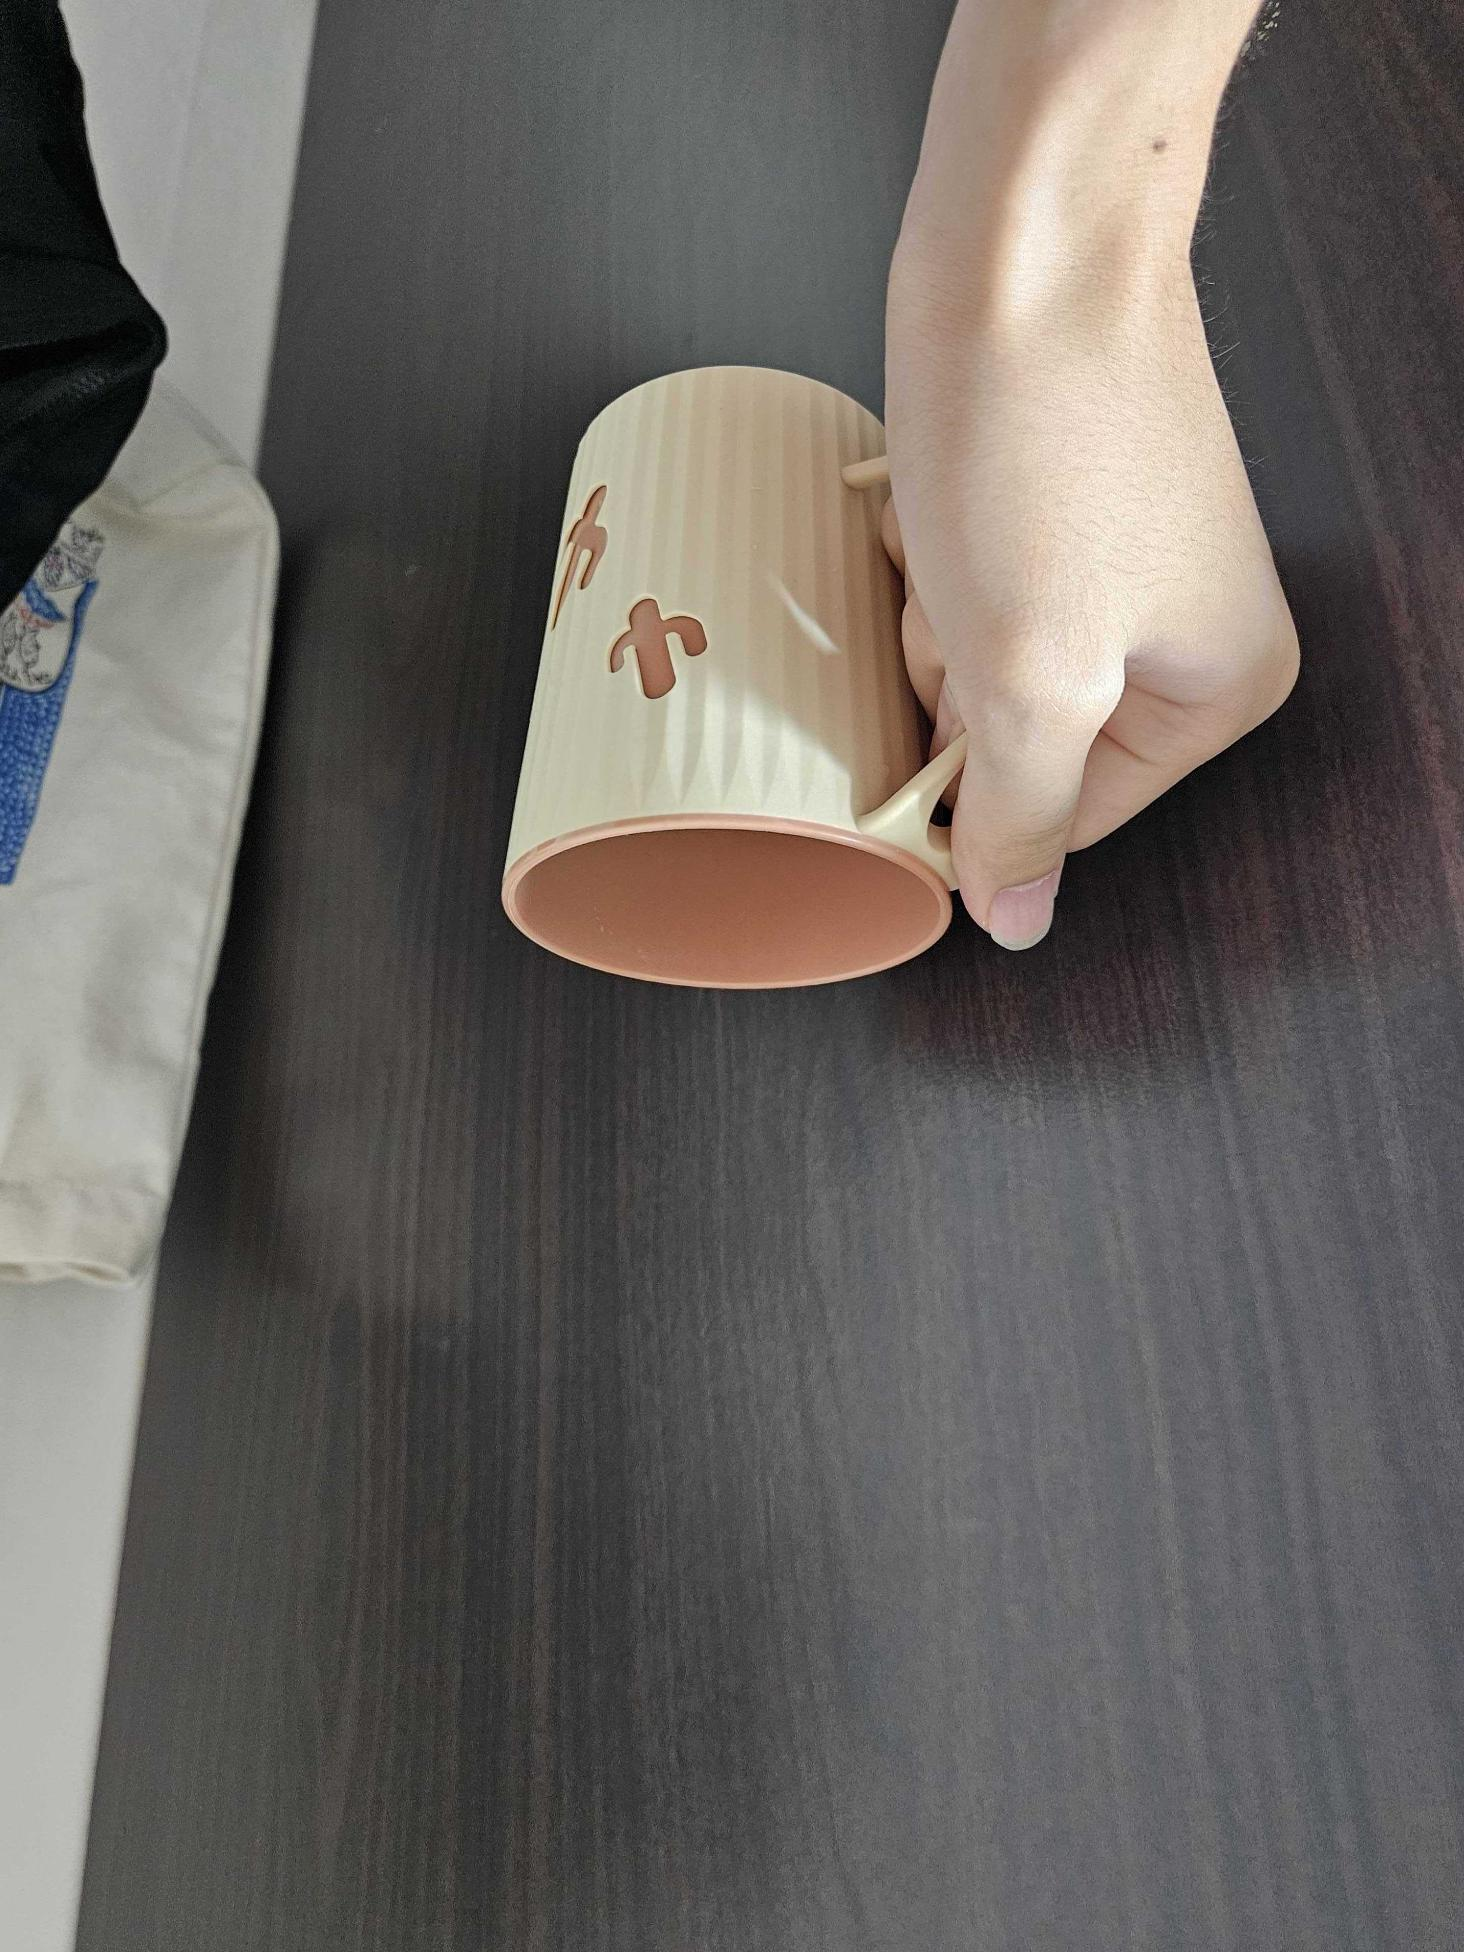cup: (494, 0, 1312, 1004)
